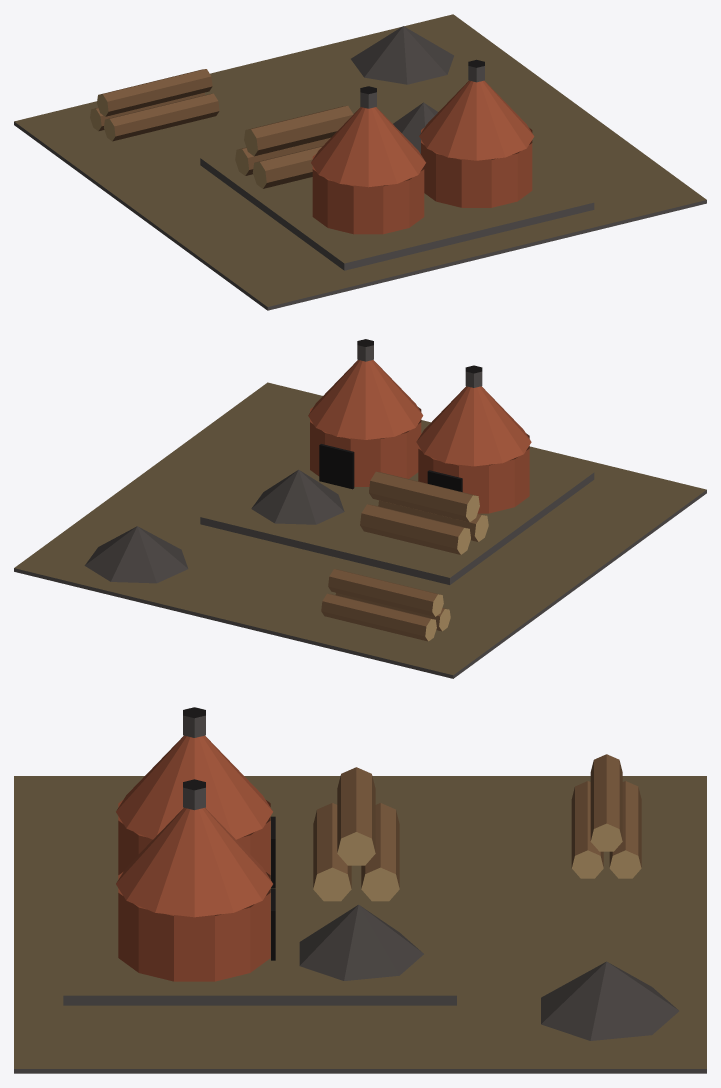
File: kiln_1.glb
3 views of the same model, one above another, from view 1: azimuth 30°, elevation 25°; view 2: azimuth 150°, elevation 25°; view 3: azimuth 270°, elevation 25° (orthographic). The views are drawn at different scales.
Visible parts, largest first — view 1: kiln_1; view 2: kiln_1; view 3: kiln_1.
Boxes of the visible parts, box(x1,y1,x2,y2) form: kiln_1: box(14, 14, 706, 310); kiln_1: box(14, 339, 706, 678); kiln_1: box(14, 707, 706, 1073).
Bounding box in the file's own units: 3.8 × 1.09 × 3.8.
